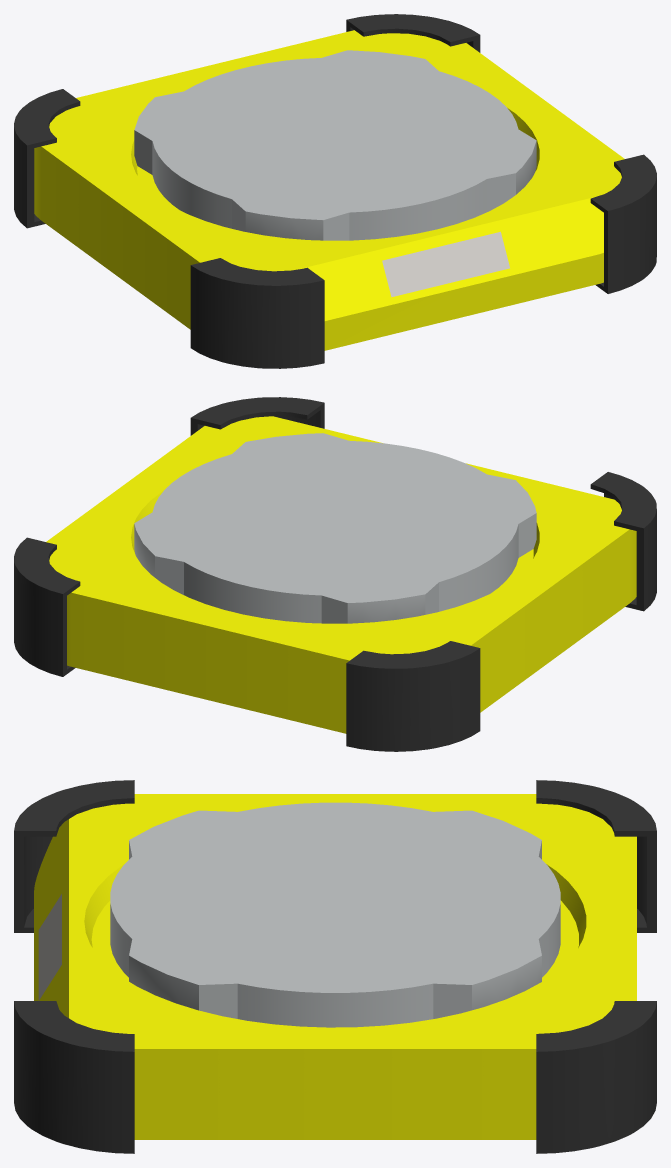
Rendered from 04-Digital Refrigerant Scale.fbx.
The picture shows the model from 3 angles, top to bottom: view 1: azimuth 30°, elevation 25°; view 2: azimuth 150°, elevation 25°; view 3: azimuth 270°, elevation 25°; orthographic projection. The views are drawn at different scales.
Visible parts, largest first — view 1: Digital Refrigerant Scale - V2; view 2: Digital Refrigerant Scale - V2; view 3: Digital Refrigerant Scale - V2.
Boxes of the visible parts, box(x1,y1,x2,y2) form: Digital Refrigerant Scale - V2: box(14, 14, 656, 368); Digital Refrigerant Scale - V2: box(14, 397, 656, 751); Digital Refrigerant Scale - V2: box(14, 780, 656, 1153).
Bounding box in the file's own units: 34.22 × 7.06 × 34.22.
1 material, 1 textured.
